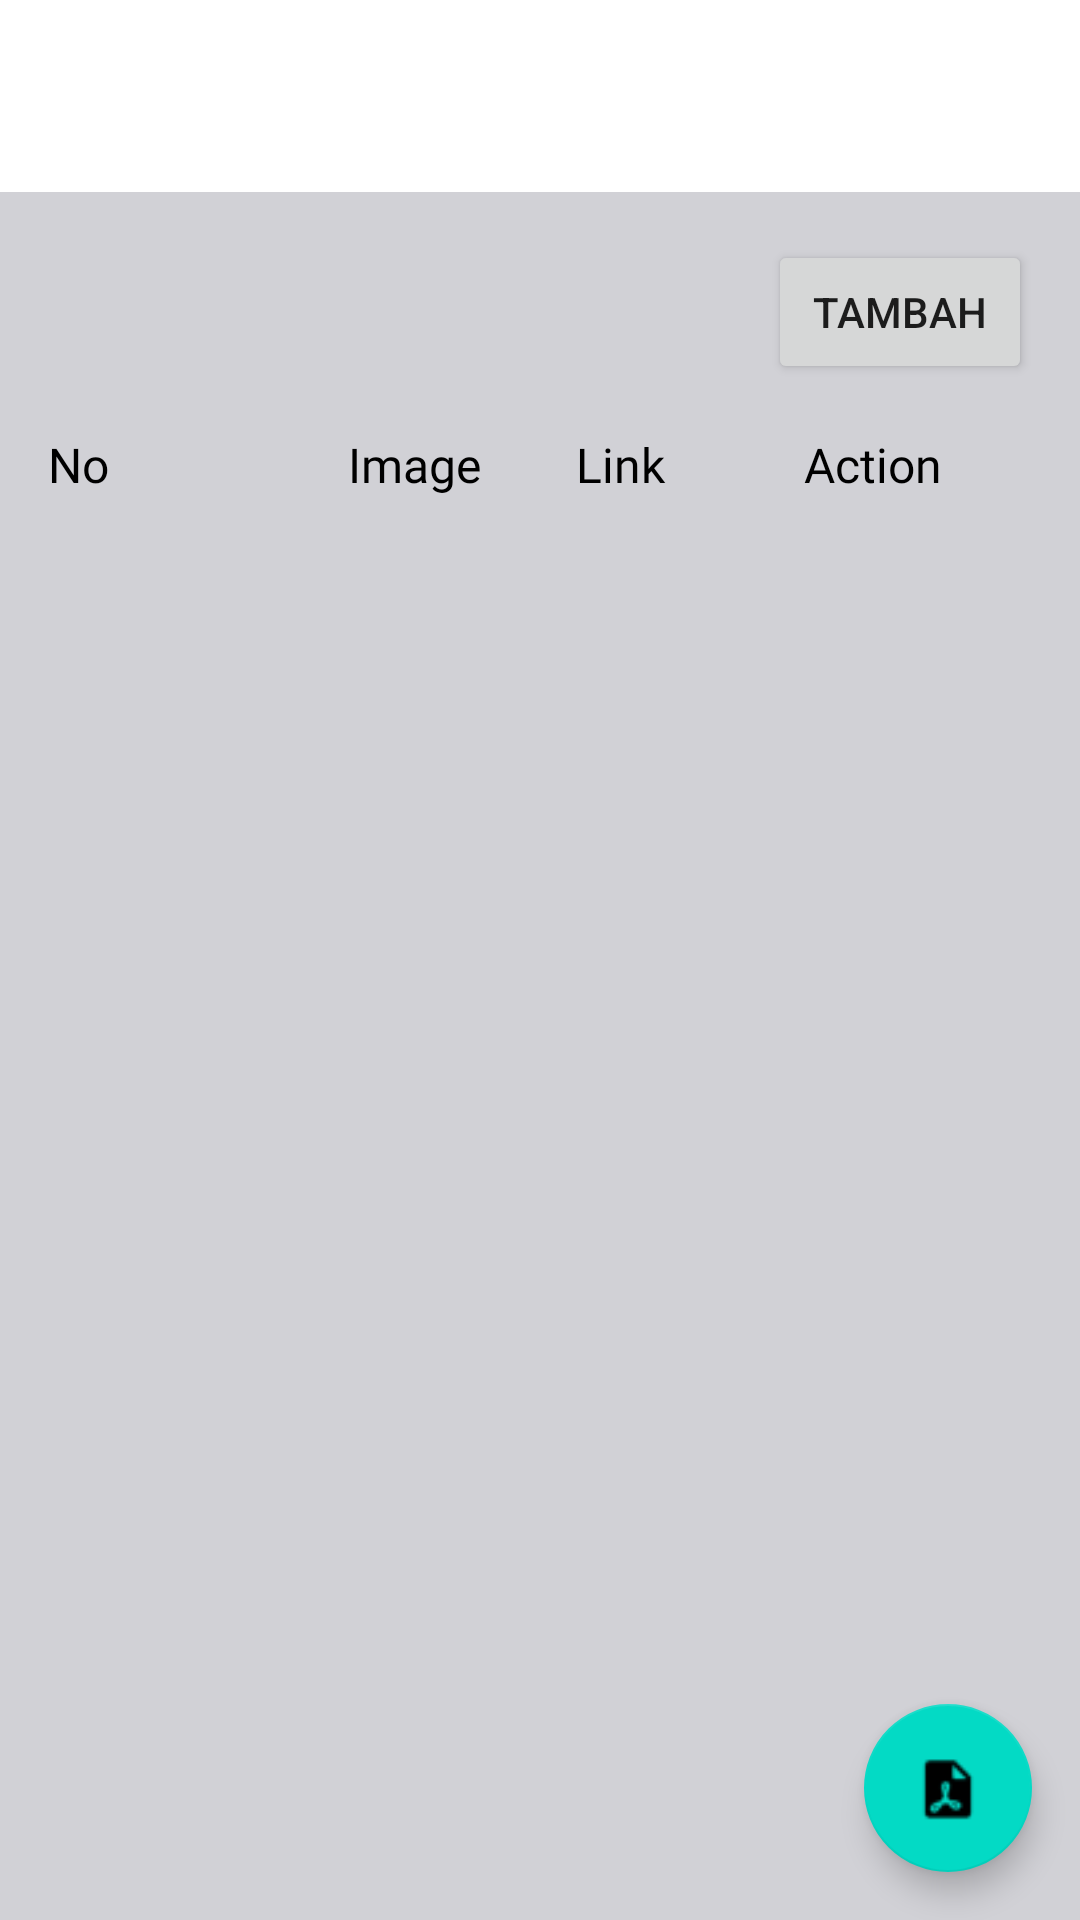

Icons on this 1080px×1920px Android screen, each with its box as [x1=x1, y1=y1, x2=x2, y2=y2]:
Export PDF: [x1=864, y1=1704, x2=1032, y2=1872]
